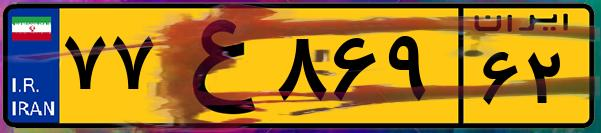2: (525, 38, 570, 115)
6: (330, 28, 385, 110), (475, 38, 525, 113)
7: (57, 26, 110, 100), (110, 28, 158, 98)
8: (270, 28, 330, 110)
9: (385, 28, 445, 110)
ع: (158, 12, 270, 120)
